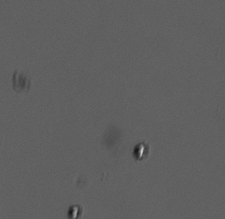Dead Cell: (12, 71, 32, 94)
Living Cell: (132, 141, 149, 161)
